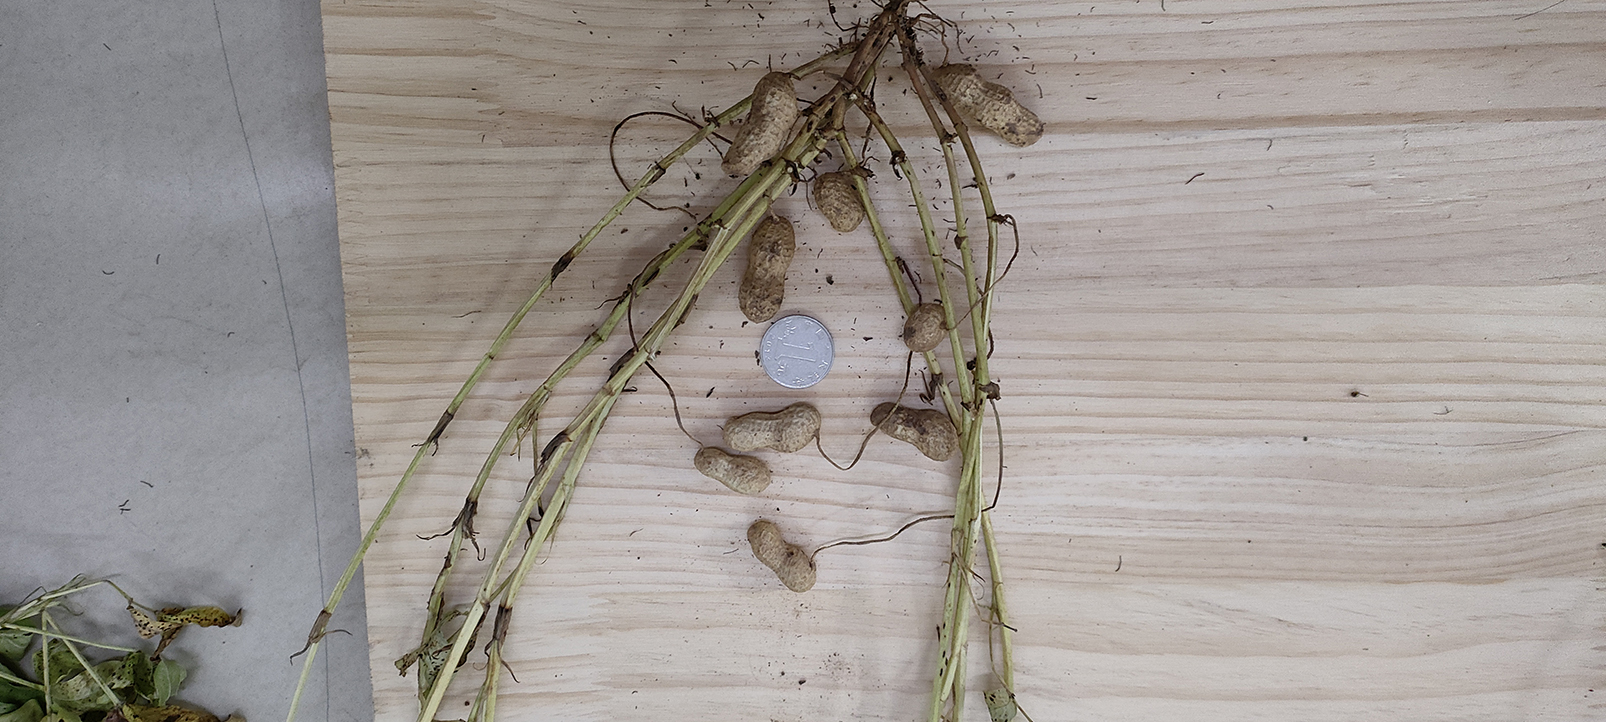h: (936, 63, 1044, 147), (722, 70, 798, 180), (738, 214, 796, 323), (720, 402, 821, 454), (747, 520, 818, 591), (691, 447, 774, 496), (812, 173, 865, 232), (903, 302, 948, 352)
l: (868, 402, 958, 463)
